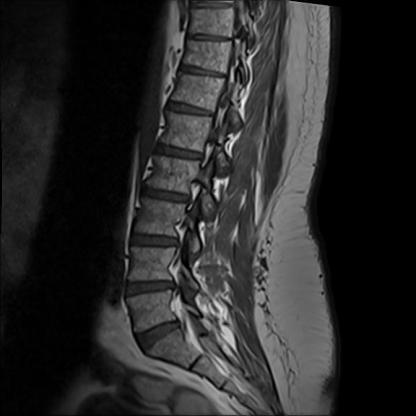Annular Disc Relaxationrotation: (151, 143, 209, 161), (131, 232, 180, 252)
Degenerative Disc Diseaserotation: (123, 280, 177, 301), (141, 186, 191, 205)
Disc Bulgerotation: (123, 279, 177, 300), (137, 323, 185, 346), (142, 186, 192, 206)
